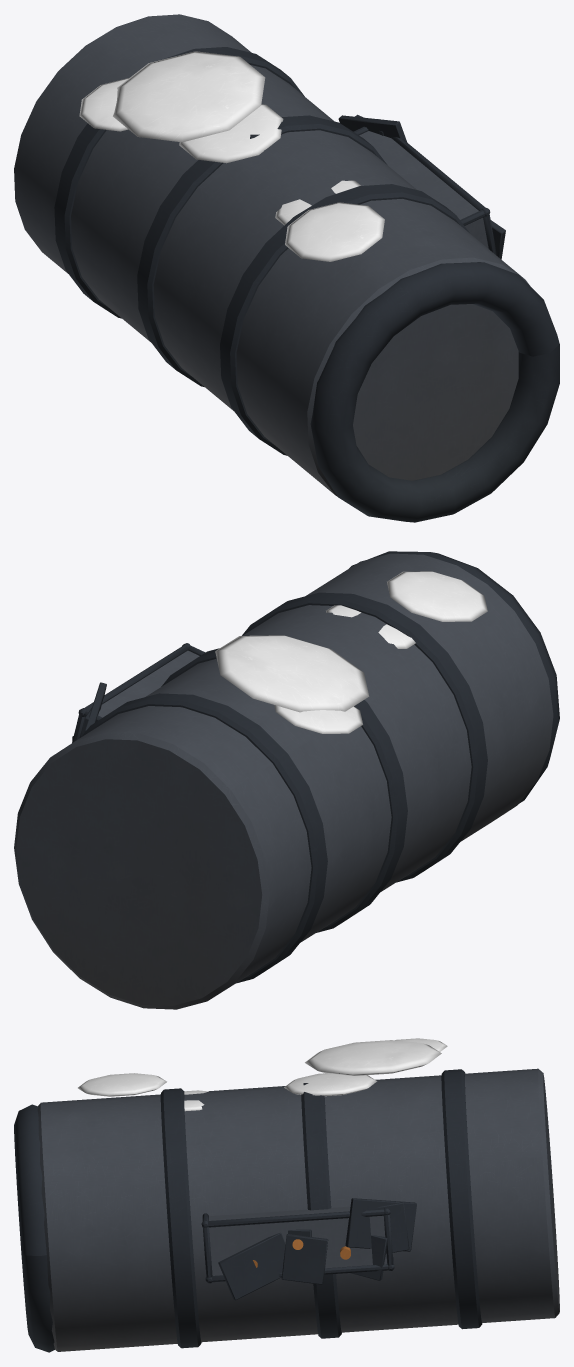
Rendered from sv04_nacelle.glb.
3 views of the same model, one above another, from view 1: azimuth 30°, elevation 25°; view 2: azimuth 150°, elevation 25°; view 3: azimuth 270°, elevation 25° (orthographic). The views are drawn at different scales.
Parts seen in each view (by area): view 1: sv04_nacelle; view 2: sv04_nacelle; view 3: sv04_nacelle.
Part boxes in pixels (x1,y1,x2,y2): sv04_nacelle: (14,14,559,522); sv04_nacelle: (14,551,559,1009); sv04_nacelle: (14,1038,559,1352).
Size of what is drawn, in the model's own units: 4.05 by 3.87 by 6.98.
Materials: 5 (4 with a texture image).
